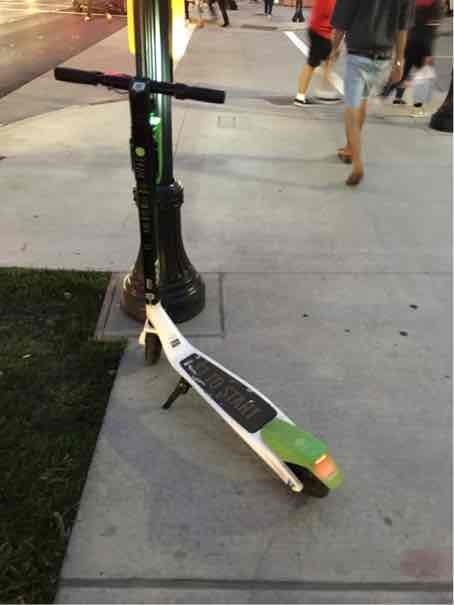scooter: (38, 68, 352, 507)
